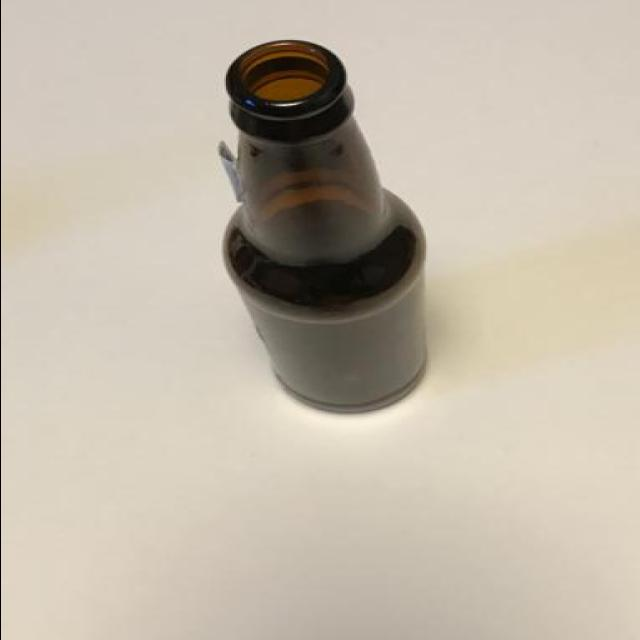Glass Bottle: (214, 41, 428, 416)
